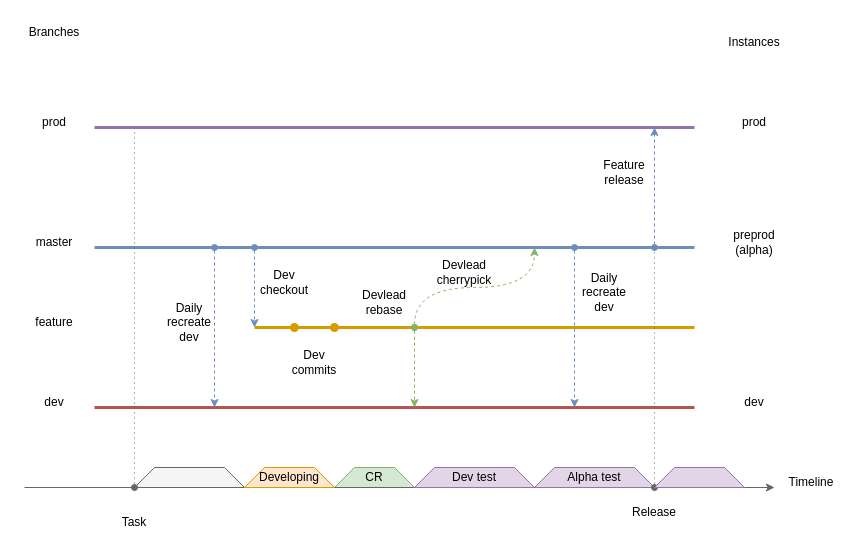
Image size: 859x554. Some labels were removed from this diagram. Each missing label, with the centre of its shape:
Analitycs: (189,477)
Prod test: (699,477)
